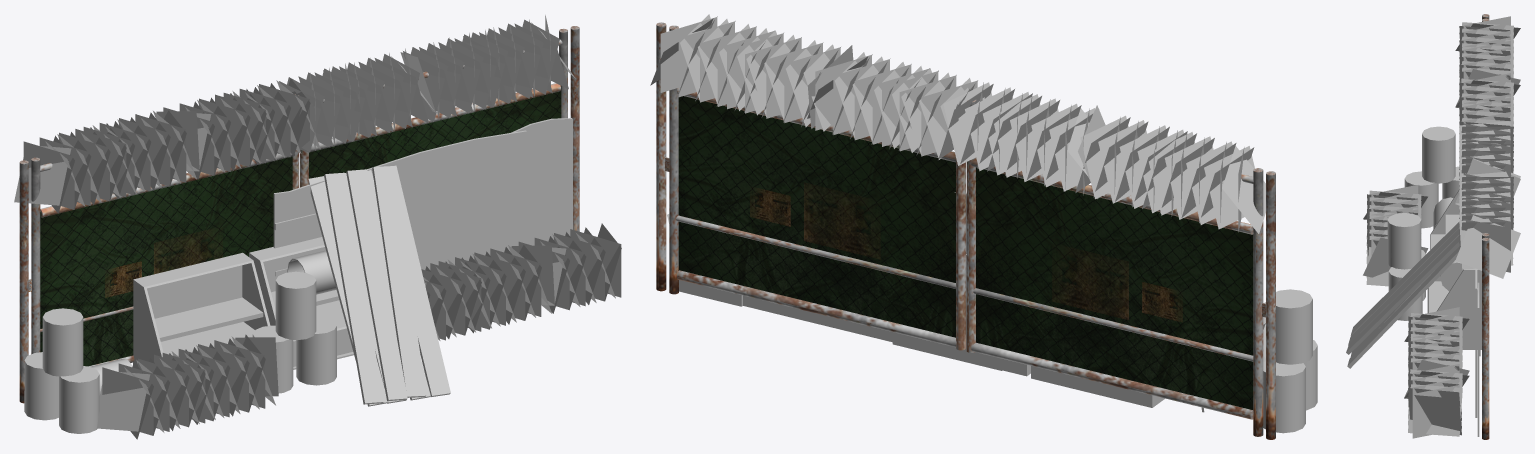
Rendered from RoadBlock_2.fbx.
3 renders of one model, left to right at view 1: azimuth 30°, elevation 25°; view 2: azimuth 150°, elevation 25°; view 3: azimuth 270°, elevation 25°, orthographic. The views are drawn at different scales.
Parts seen in each view (by area): view 1: polySurface327; view 2: polySurface327; view 3: polySurface327.
Part boxes in pixels (x1,y1,x2,y2): polySurface327: [14, 15, 621, 439]; polySurface327: [650, 14, 1317, 439]; polySurface327: [1346, 14, 1520, 439].
Size of the model in its own units: 484 by 220 by 153.
